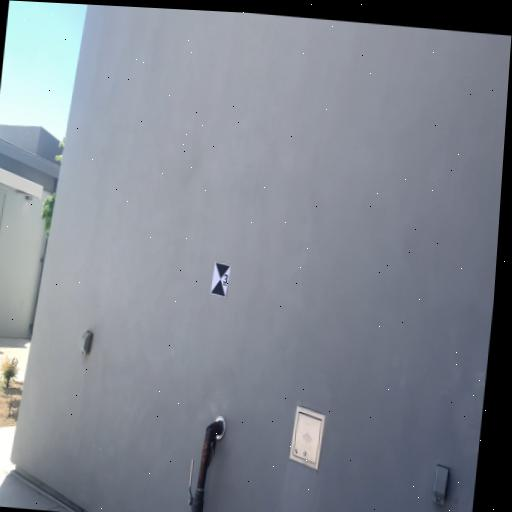target3: (209, 263, 230, 298)
